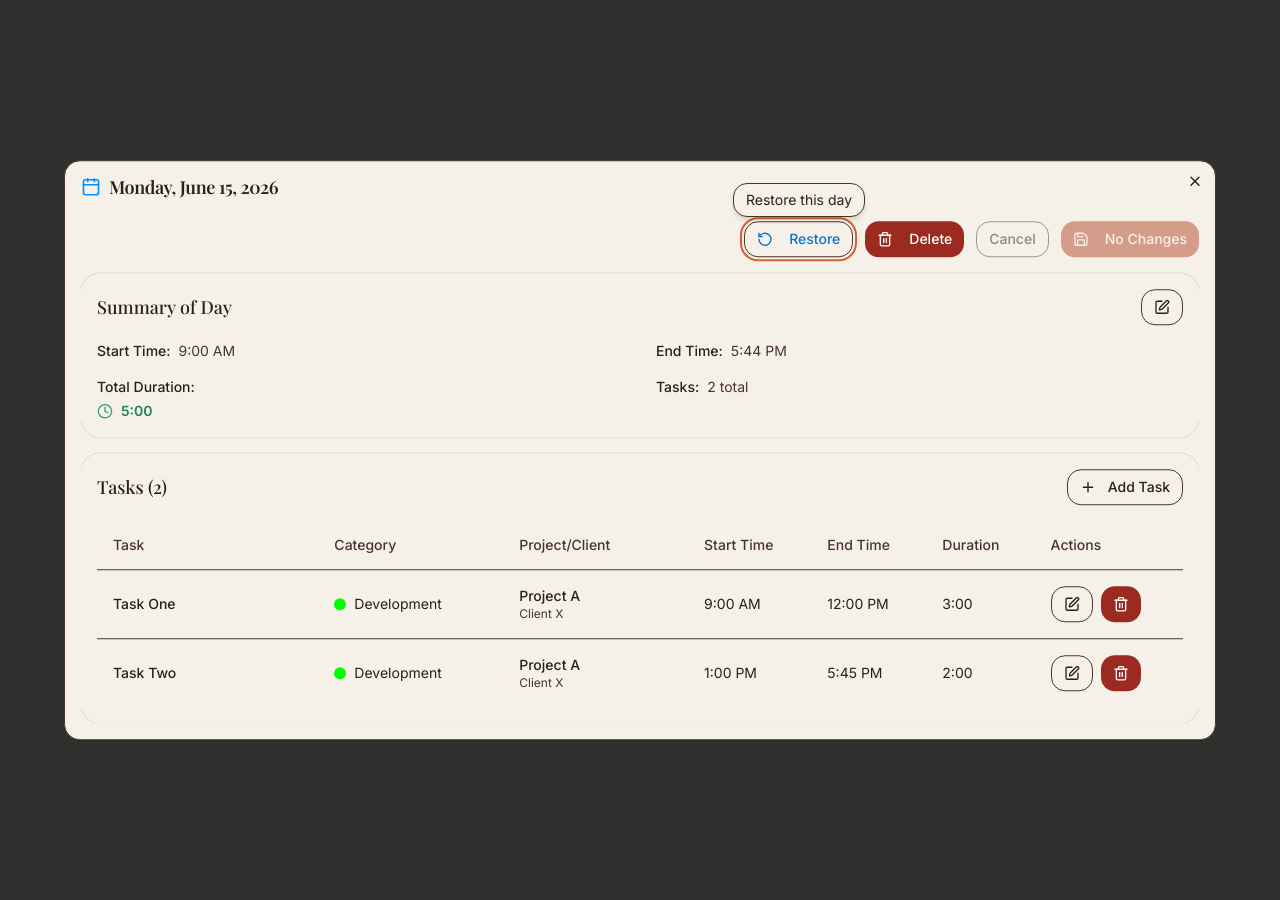
Scenario: ArchiveEditDialog › enables Save Changes and shows a pending-changes notice from a task edit alone
Expected: the button "No Changes" is disabled, left=1061, top=221, right=1199, bottom=257
Click the button named "Edit task" in the row of "Task Two" at (1072, 673), box left=1051, top=655, right=1093, bottom=691
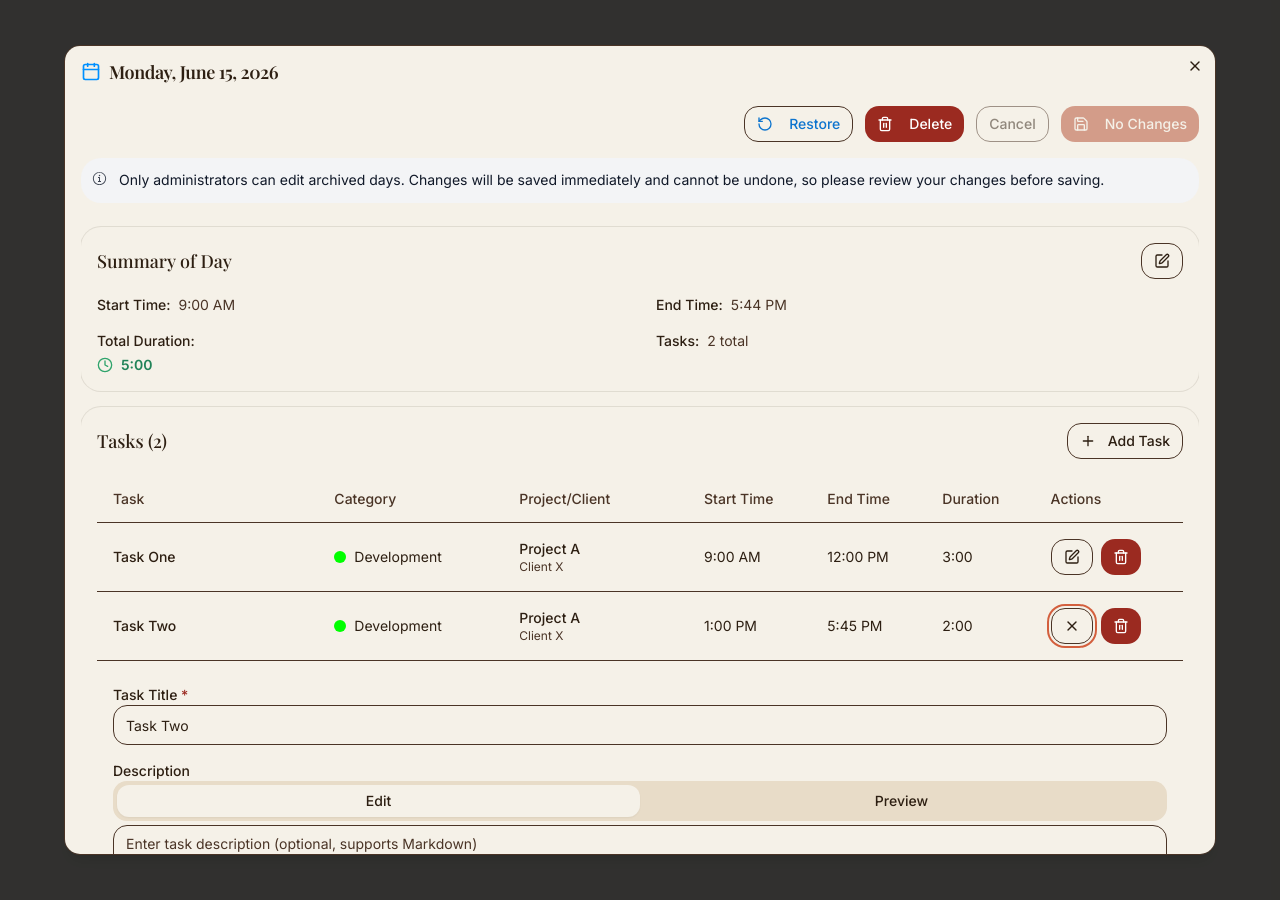
Replace the text in the field labelled "Task Title *" with "Task Two Updated" at (640, 725), box left=113, top=705, right=1167, bottom=745
(page scrolled)
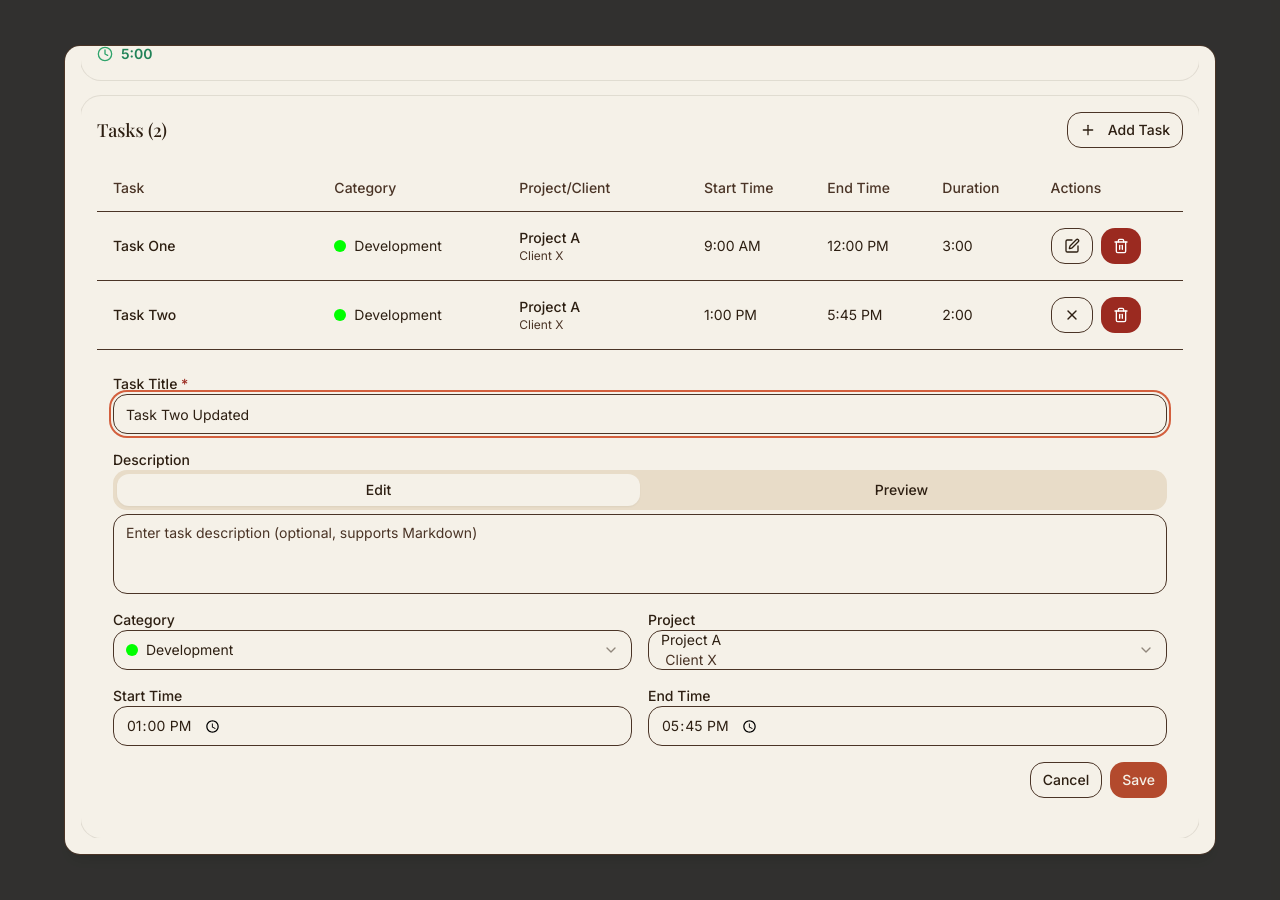
Click the button "Save" at (1139, 780), box left=1110, top=762, right=1167, bottom=798
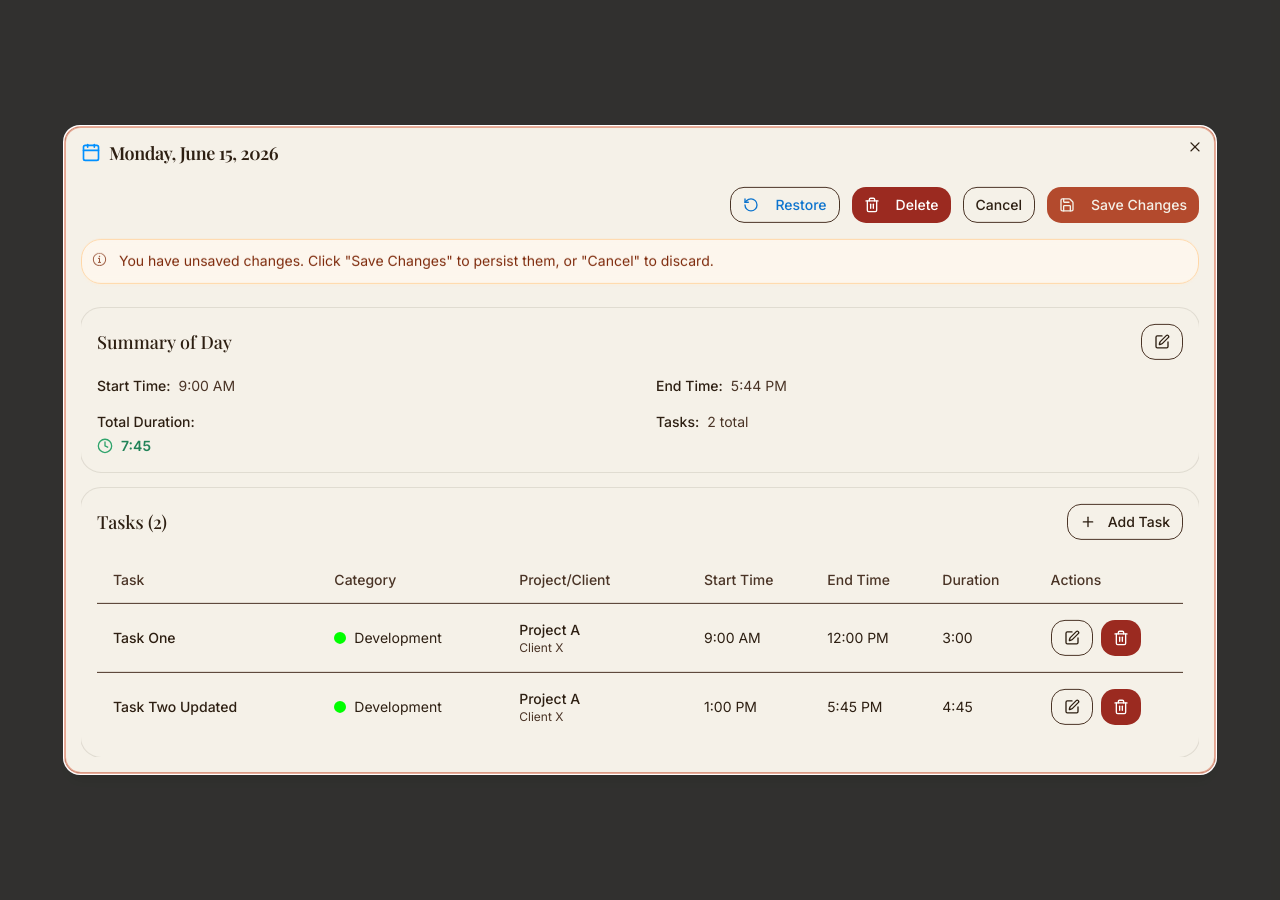
Expected: the text "You have unsaved changes" is shown, left=119, top=252, right=714, bottom=269
Expected: the button "Save Changes" is enabled, left=1047, top=187, right=1199, bottom=223
